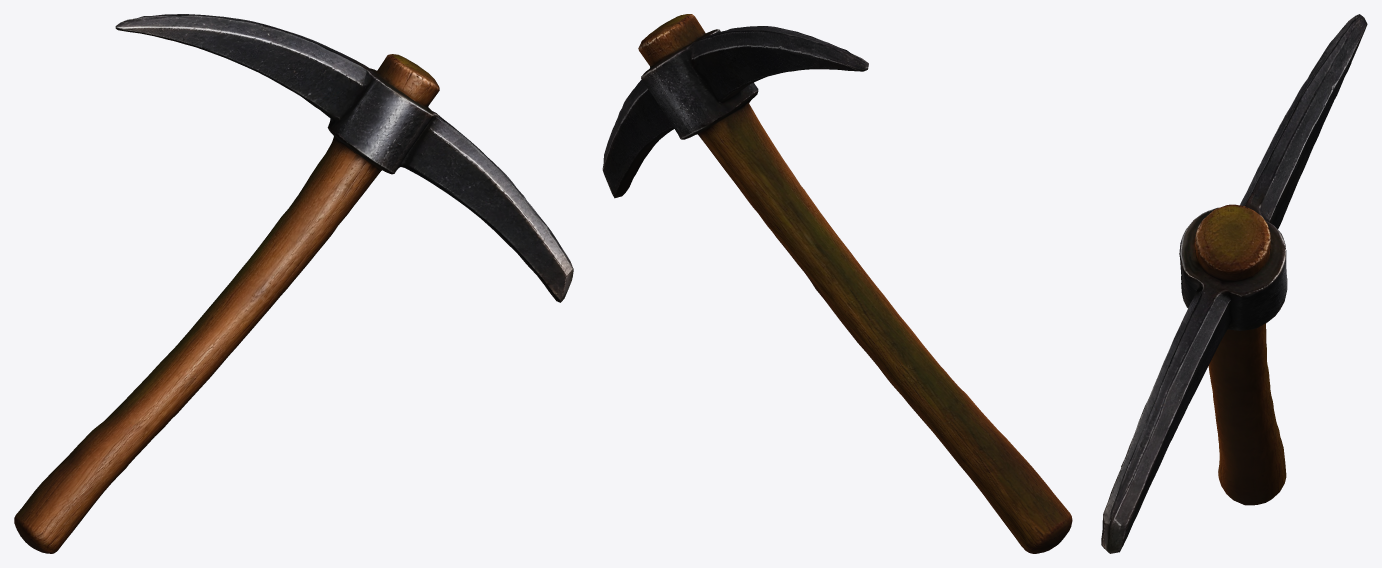
File: picareta.glb
The picture shows the model from 3 angles, left to right: view 1: azimuth 30°, elevation 25°; view 2: azimuth 150°, elevation 25°; view 3: azimuth 270°, elevation 25°; orthographic projection. The views are drawn at different scales.
Visible parts, largest first — view 1: tripo_node_ab451da4-9ac8-4b7c-8696-d033d709c838; view 2: tripo_node_ab451da4-9ac8-4b7c-8696-d033d709c838; view 3: tripo_node_ab451da4-9ac8-4b7c-8696-d033d709c838.
Part boxes in pixels (x1,y1,x2,y2): tripo_node_ab451da4-9ac8-4b7c-8696-d033d709c838: (14, 14, 573, 553); tripo_node_ab451da4-9ac8-4b7c-8696-d033d709c838: (602, 14, 1072, 553); tripo_node_ab451da4-9ac8-4b7c-8696-d033d709c838: (1101, 14, 1367, 553).
Bounding box in the file's own units: 1 × 0.9056 × 0.3875.
1 material, 1 textured.
